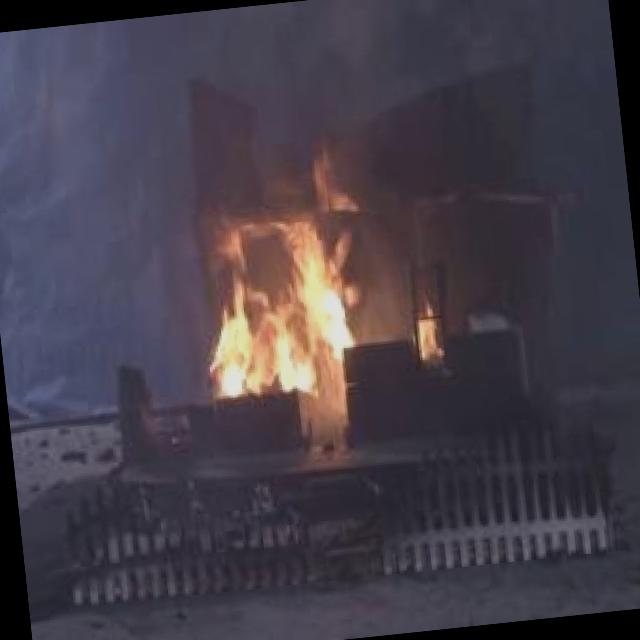fire: (195, 166, 376, 436)
